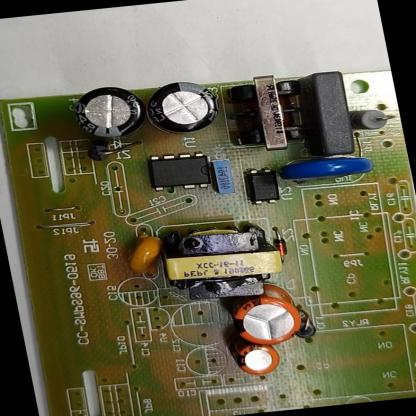Cap1: (221, 280, 314, 349)
Cap2: (222, 334, 286, 380)
Cap3: (140, 78, 226, 140)
Cap4: (65, 81, 156, 145)
MOSFET: (140, 148, 218, 196)
Mov: (267, 147, 377, 189)
Resistor: (343, 104, 400, 134)
Transformer: (148, 218, 292, 308), (219, 71, 315, 157)
